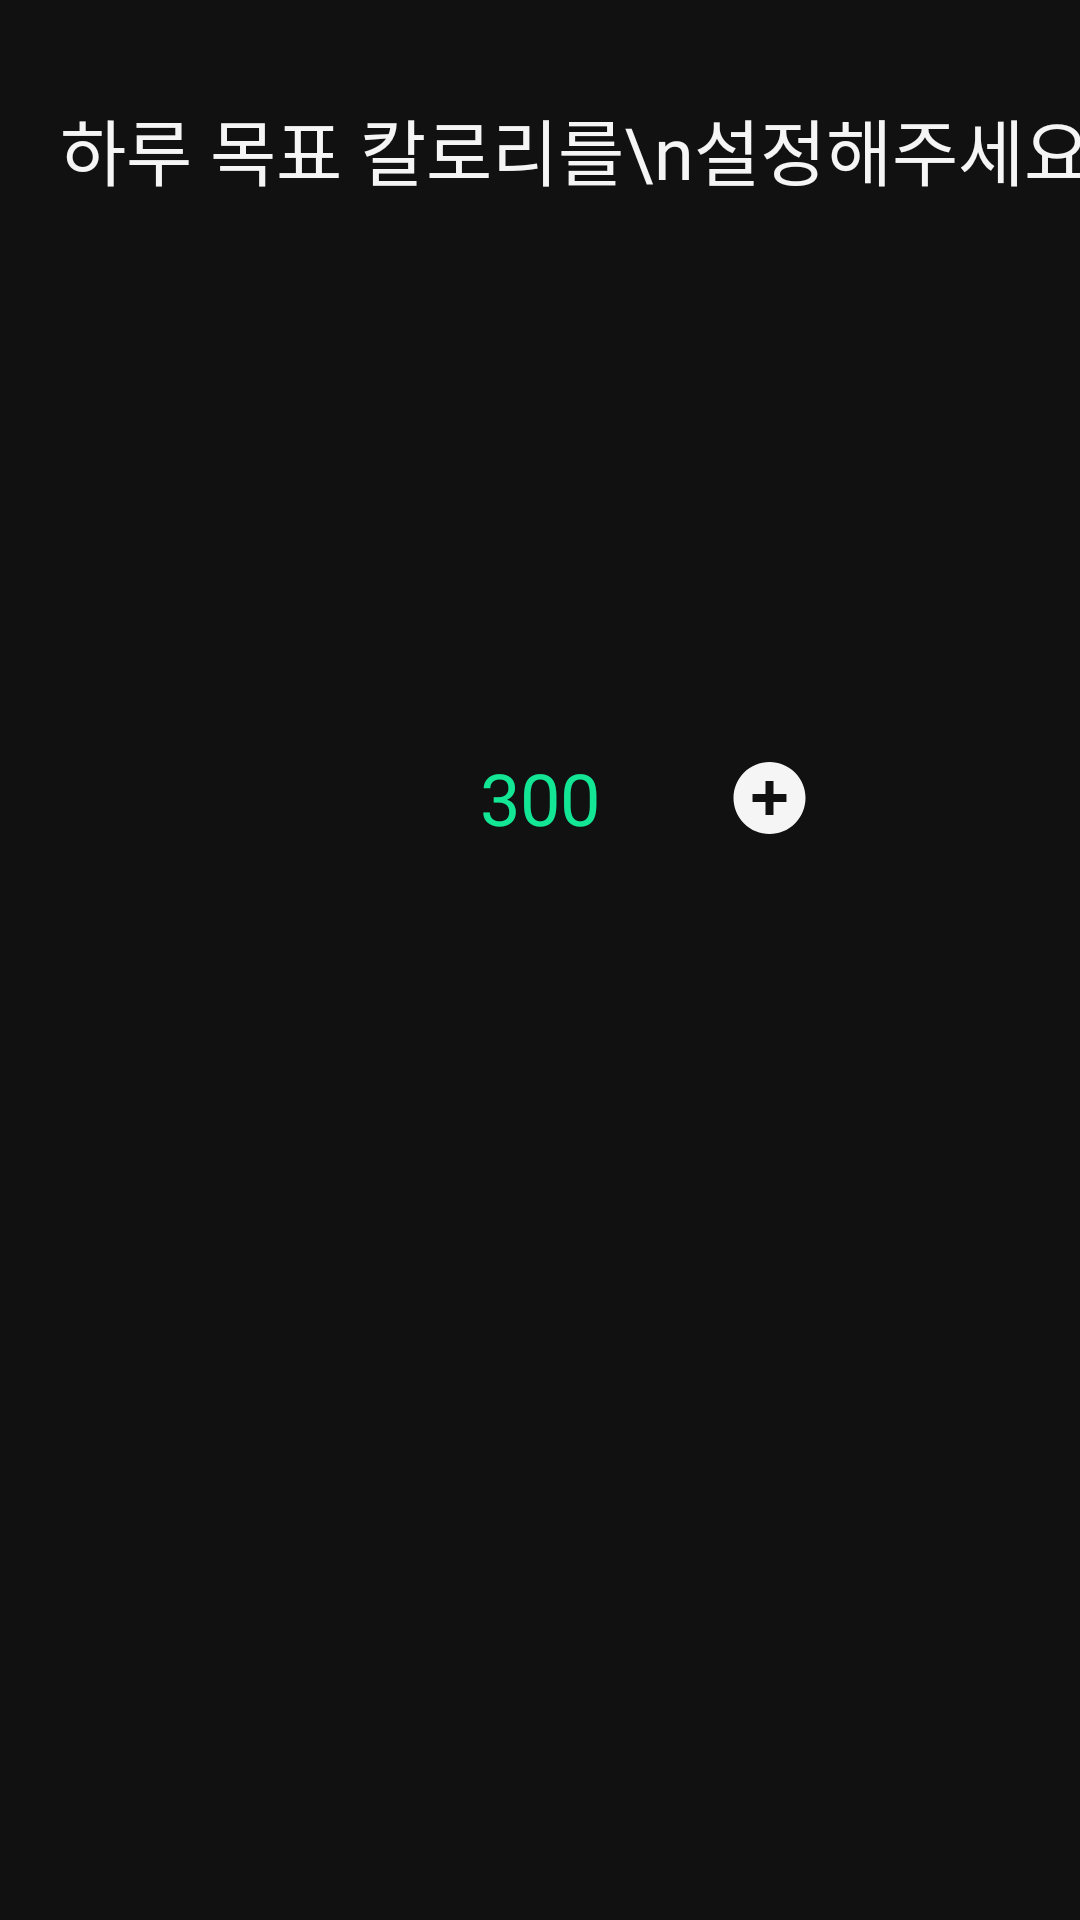

Where icons sit on this 1080×1920 app screen, as (x1, y1, x2, y2):
circle plus: (733, 762, 806, 834)
